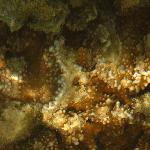dead: (3, 2, 145, 149)
